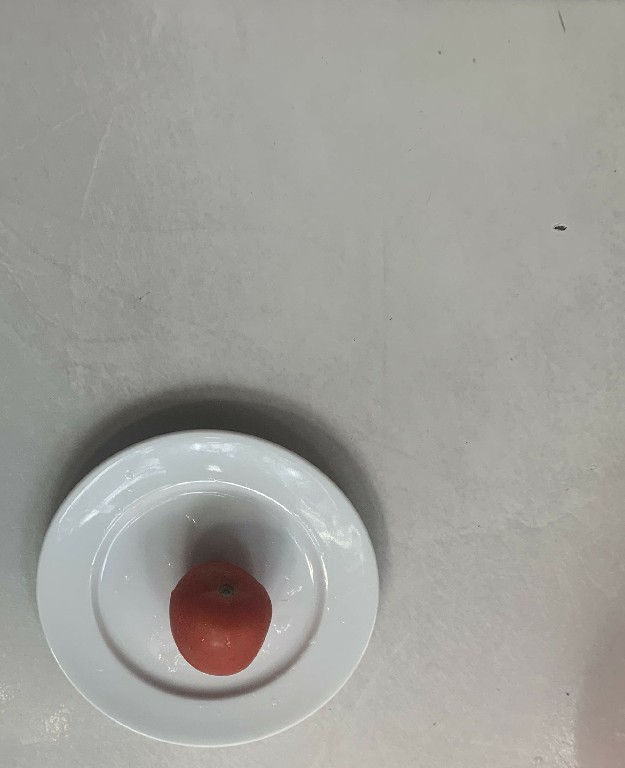OK: (164, 554, 274, 682)
